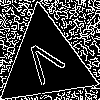V: (21, 36, 72, 93)
